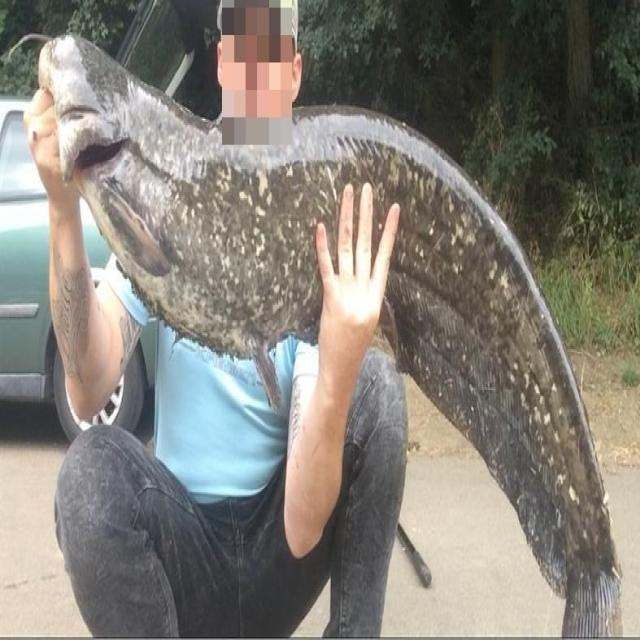Catfish: (18, 27, 630, 640)
